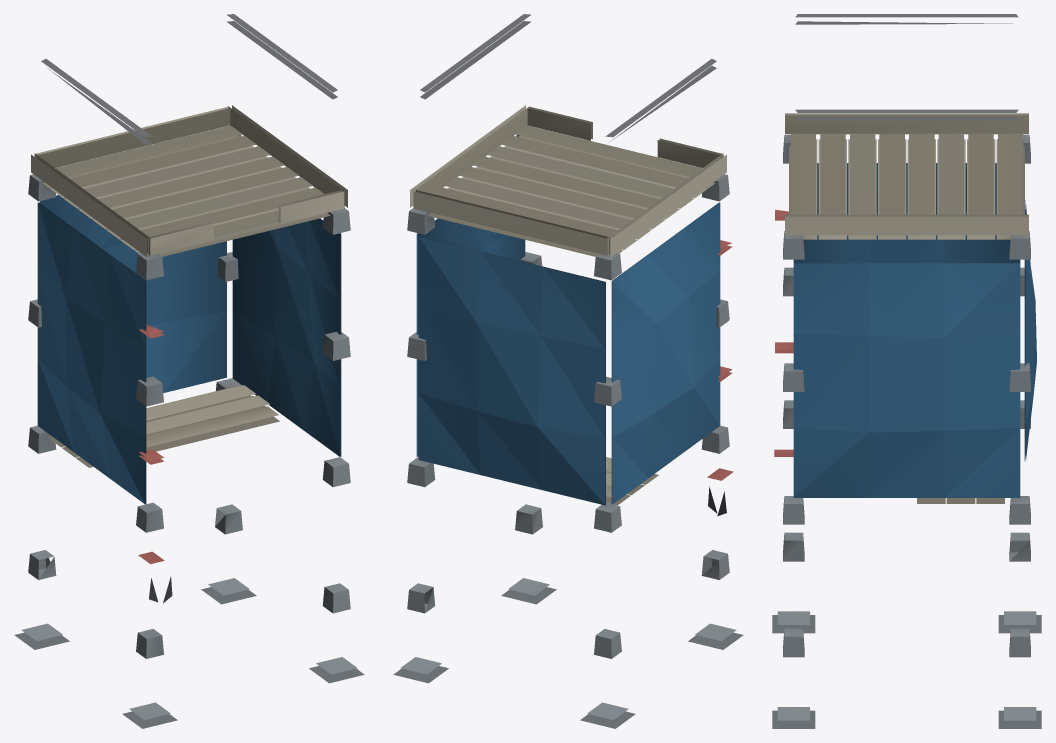
The model's file is camtower.lod.glb.
The picture shows the model from 3 angles, left to right: view 1: azimuth 30°, elevation 25°; view 2: azimuth 150°, elevation 25°; view 3: azimuth 270°, elevation 25°; orthographic projection. The views are drawn at different scales.
Visible parts, largest first — view 1: camtower; view 2: camtower; view 3: camtower.
Boxes of the visible parts, x1,y1,x2,y2 form: camtower: (14,14,364,728); camtower: (393,14,743,728); camtower: (772,14,1041,728).
Size of the model in its own units: 2.8 by 6.97 by 2.8.
